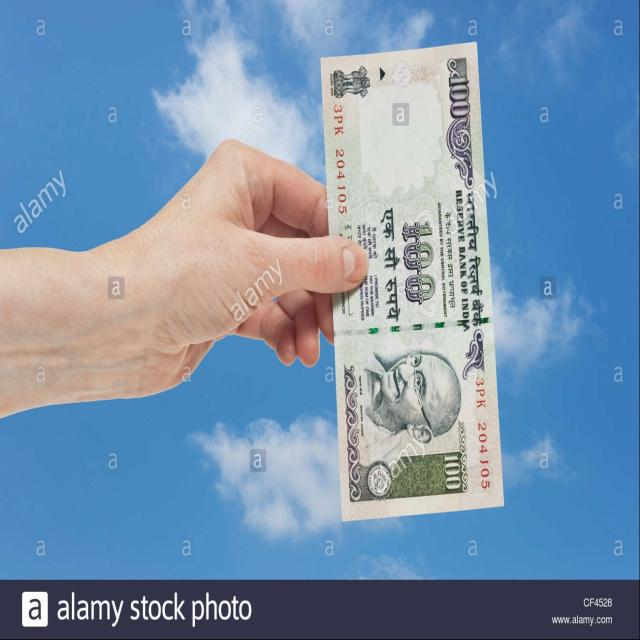100IndianRupees: (324, 45, 504, 525)
